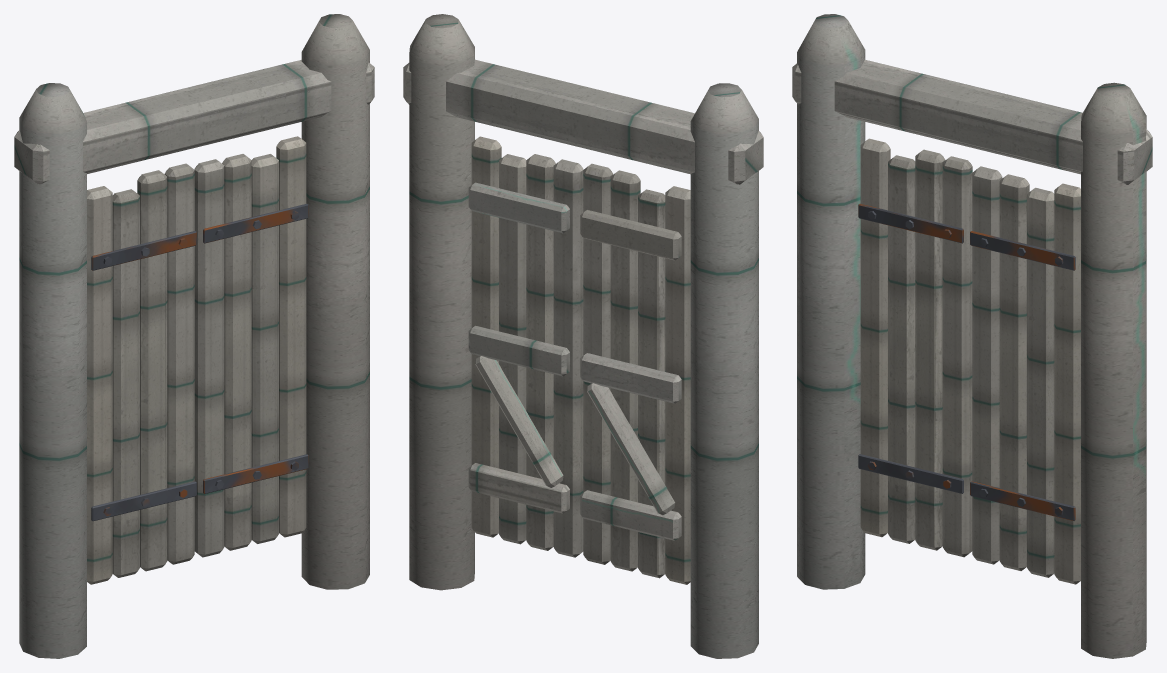
The model's file is sur_kapisi.glb.
3 views of the same model, side by side, from view 1: azimuth 30°, elevation 25°; view 2: azimuth 150°, elevation 25°; view 3: azimuth 330°, elevation 25° (orthographic).
Parts seen in each view (by area): view 1: sur_kapisi, KanatSag, KanatSol; view 2: sur_kapisi, KanatSag, KanatSol; view 3: sur_kapisi, KanatSol, KanatSag.
Boxes of the visible parts, x1=… form: sur_kapisi: x1=14, y1=14, x2=374, y2=658; KanatSag: x1=194, y1=136, x2=308, y2=557; KanatSol: x1=87, y1=163, x2=196, y2=584; sur_kapisi: x1=403, y1=14, x2=763, y2=658; KanatSag: x1=468, y1=136, x2=583, y2=557; KanatSol: x1=580, y1=163, x2=690, y2=584; sur_kapisi: x1=792, y1=14, x2=1152, y2=658; KanatSol: x1=858, y1=138, x2=972, y2=557; KanatSag: x1=970, y1=166, x2=1080, y2=584.
Bounding box in the file's own units: 3 × 4.65 × 0.515.
1 material, 1 textured.
